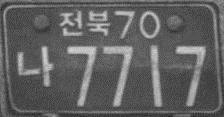0: (139, 9, 161, 38)
1: (147, 41, 165, 110)
7: (173, 44, 208, 109), (100, 44, 134, 109), (65, 43, 98, 109), (113, 9, 135, 39)
나: (16, 43, 54, 88)
전북_O: (58, 8, 111, 37)
